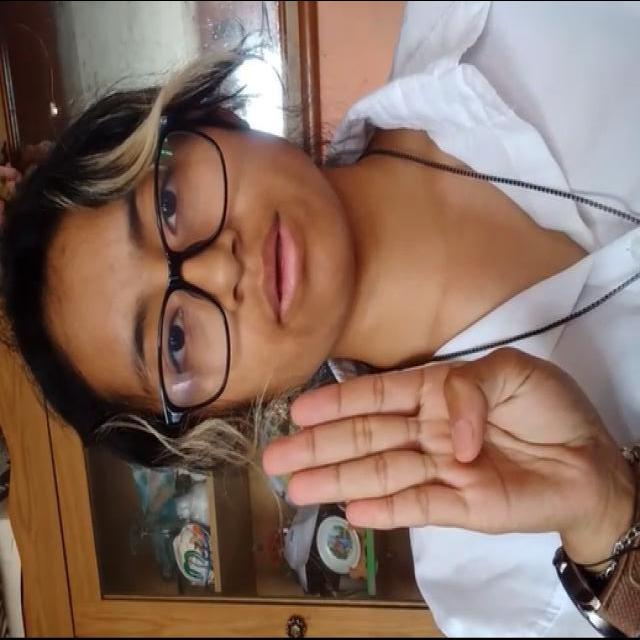B: (248, 327, 598, 570)
